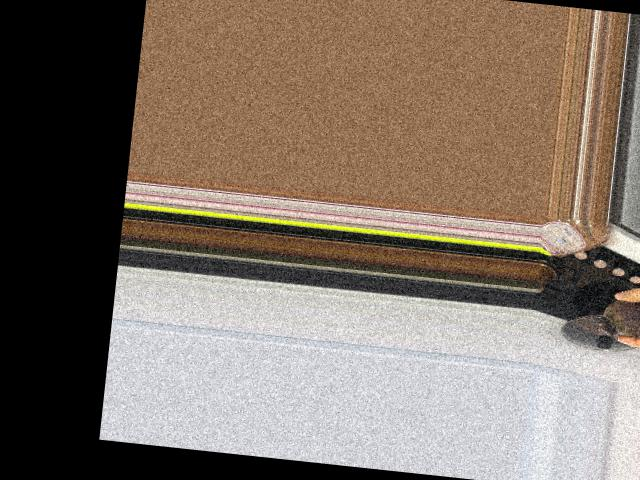beet: (596, 297, 640, 339)
